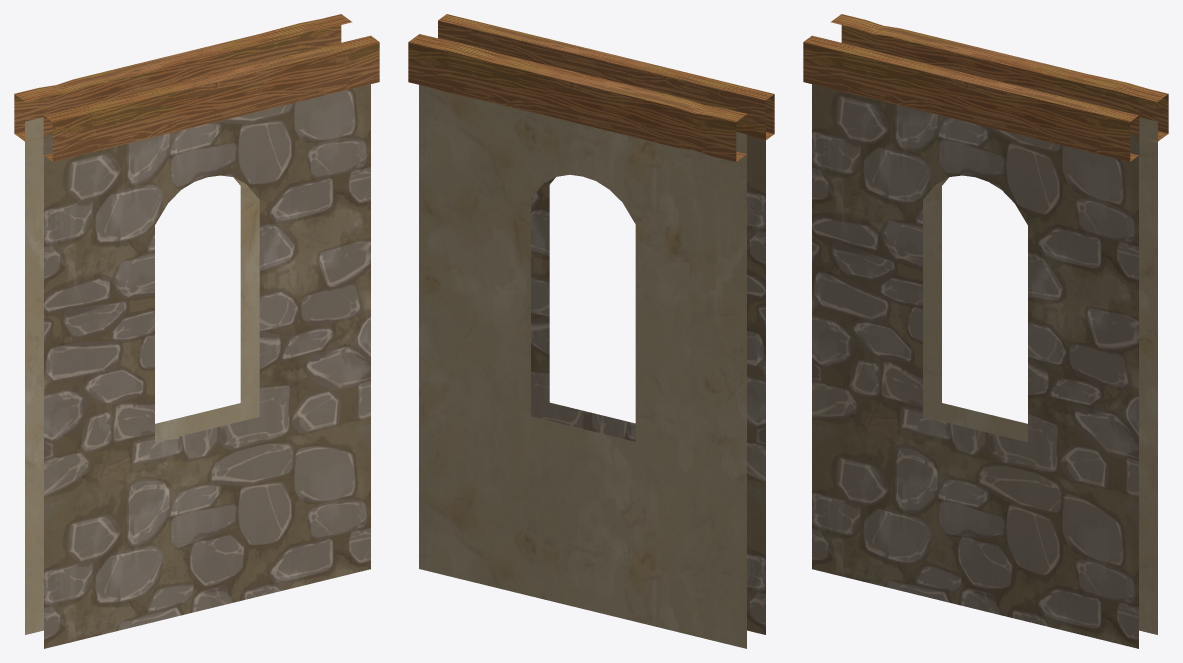
Rendered from Wall_UnevenBrick_Window_Thin_Round.gltf.
The picture shows the model from 3 angles, left to right: view 1: azimuth 30°, elevation 25°; view 2: azimuth 150°, elevation 25°; view 3: azimuth 330°, elevation 25°; orthographic projection.
Visible parts, largest first — view 1: Wall_UnevenBrick_Window_Thin_Round; view 2: Wall_UnevenBrick_Window_Thin_Round; view 3: Wall_UnevenBrick_Window_Thin_Round.
Part boxes in pixels (x1=…): Wall_UnevenBrick_Window_Thin_Round: x1=14, y1=14, x2=379, y2=648; Wall_UnevenBrick_Window_Thin_Round: x1=408, y1=14, x2=774, y2=648; Wall_UnevenBrick_Window_Thin_Round: x1=803, y1=14, x2=1168, y2=648.
Size of the model in its own units: 2 by 3.12 by 0.4065.
3 materials, 3 textured.
